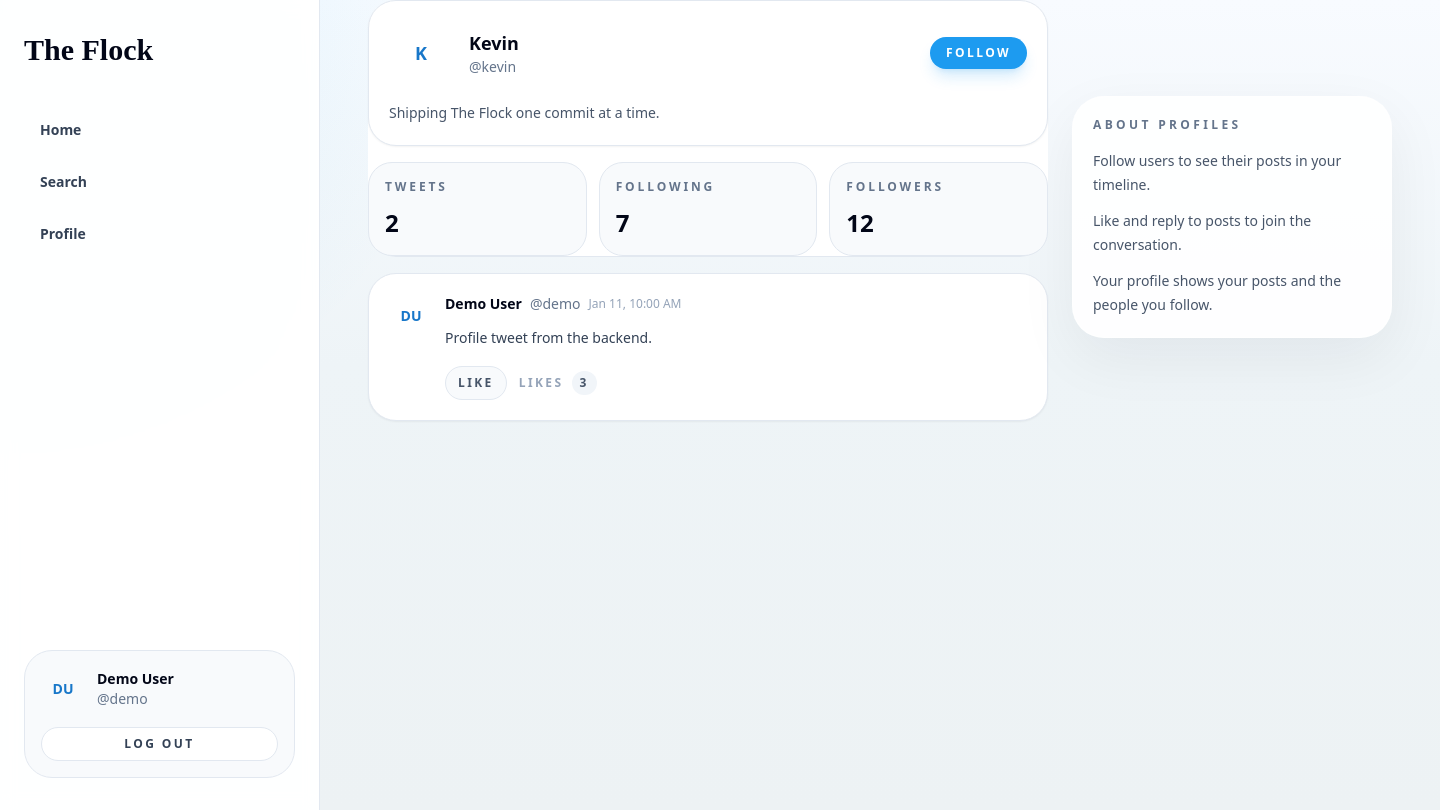
Scenario: Profile page › follows another user successfully
The image size is (1440, 810).
Click the button "Follow" at (979, 53), box [930,37,1027,69]
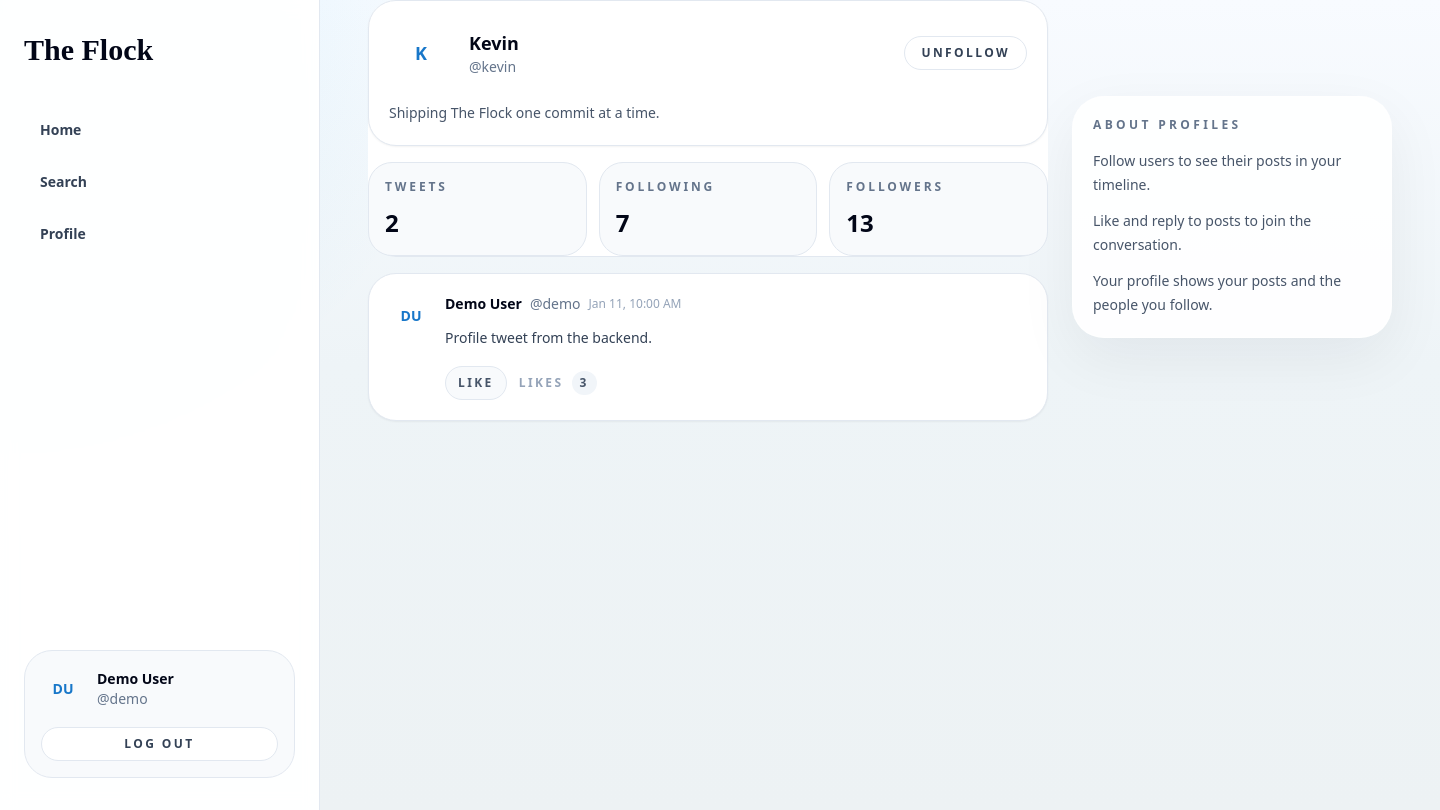
Expected: the button "Unfollow" is shown, [904,36,1027,70]
Expected: the text "13" is shown, [846,206,874,239]
